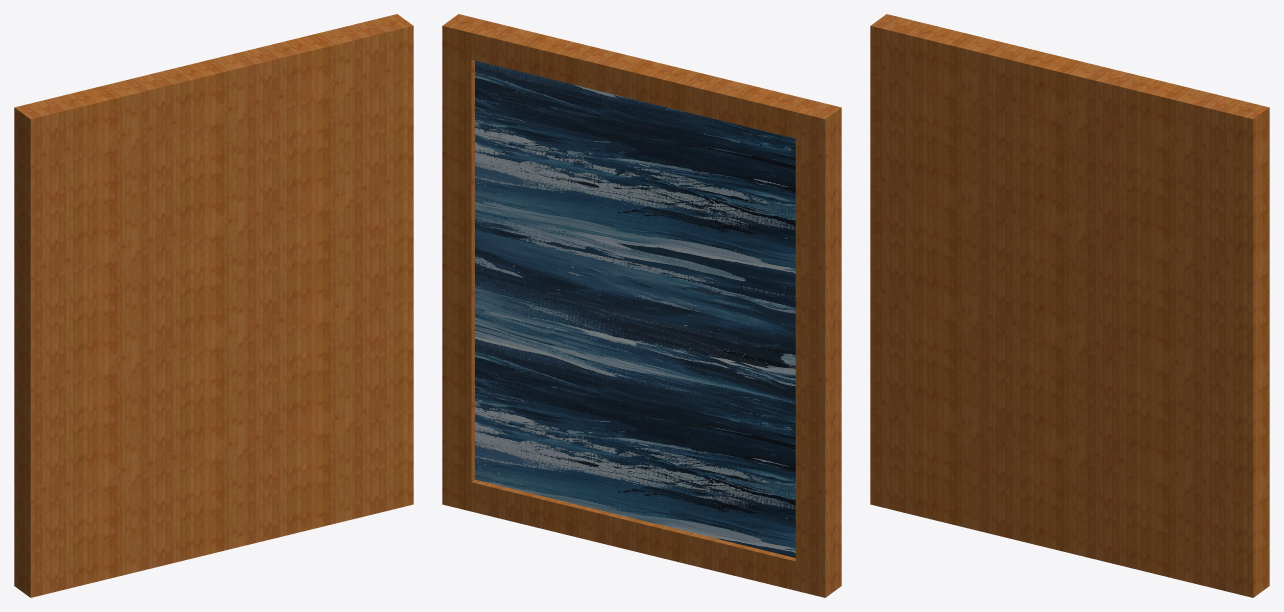
The model's file is figure1_vgf.gltf.
3 renders of one model, left to right at view 1: azimuth 30°, elevation 25°; view 2: azimuth 150°, elevation 25°; view 3: azimuth 330°, elevation 25°, orthographic.
Visible parts, largest first — view 1: figure; view 2: figure; view 3: figure.
Boxes of the visible parts, x1=… form: figure: x1=14, y1=14, x2=413, y2=597; figure: x1=442, y1=14, x2=841, y2=597; figure: x1=870, y1=14, x2=1269, y2=597.
Size of the model in its own units: 2.19 by 2.61 by 0.1603.
2 materials, 2 textured.
